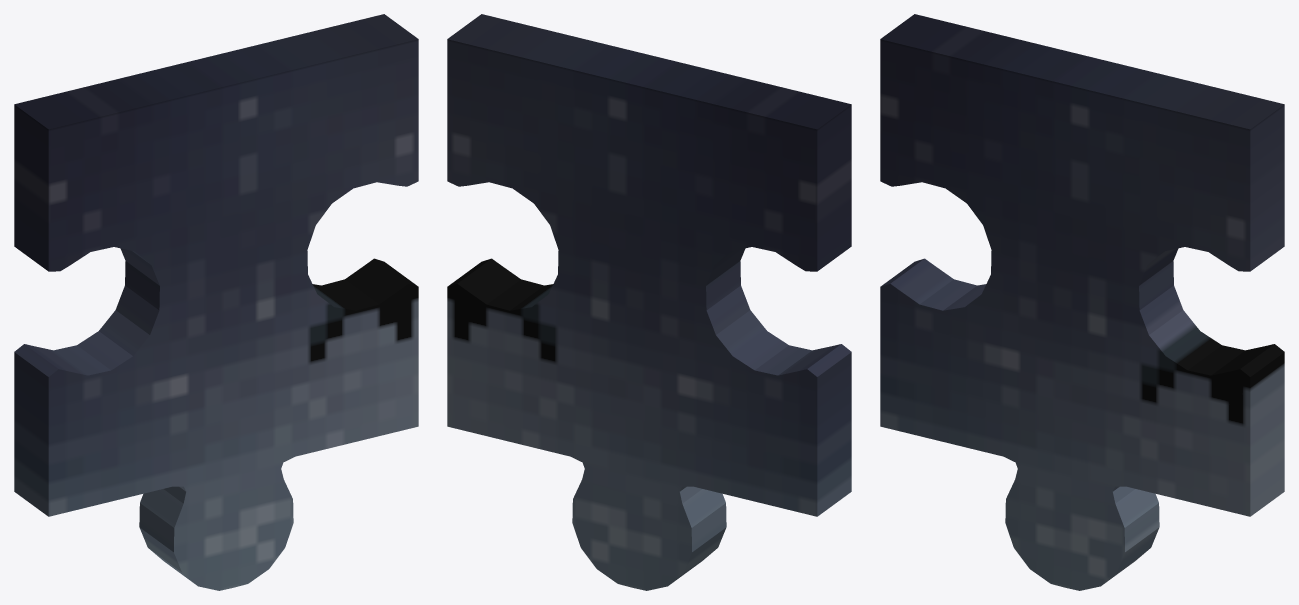
The model's file is Pieces_15_007.fbx.
3 renders of one model, left to right at view 1: azimuth 30°, elevation 25°; view 2: azimuth 150°, elevation 25°; view 3: azimuth 330°, elevation 25°, orthographic.
Parts seen in each view (by area): view 1: Pieces 15.007; view 2: Pieces 15.007; view 3: Pieces 15.007.
Boxes of the visible parts, bbox=[...] form: Pieces 15.007: bbox=[14, 14, 418, 590]; Pieces 15.007: bbox=[447, 14, 851, 590]; Pieces 15.007: bbox=[880, 14, 1284, 590].
Bounding box in the file's own units: 80.52 × 105 × 12.98.
